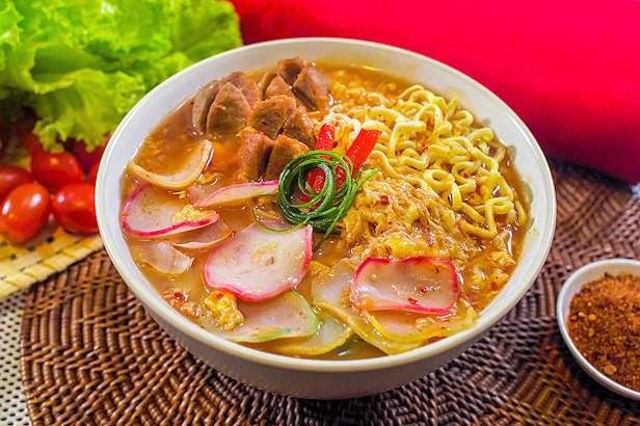seblak: (121, 59, 534, 361)
